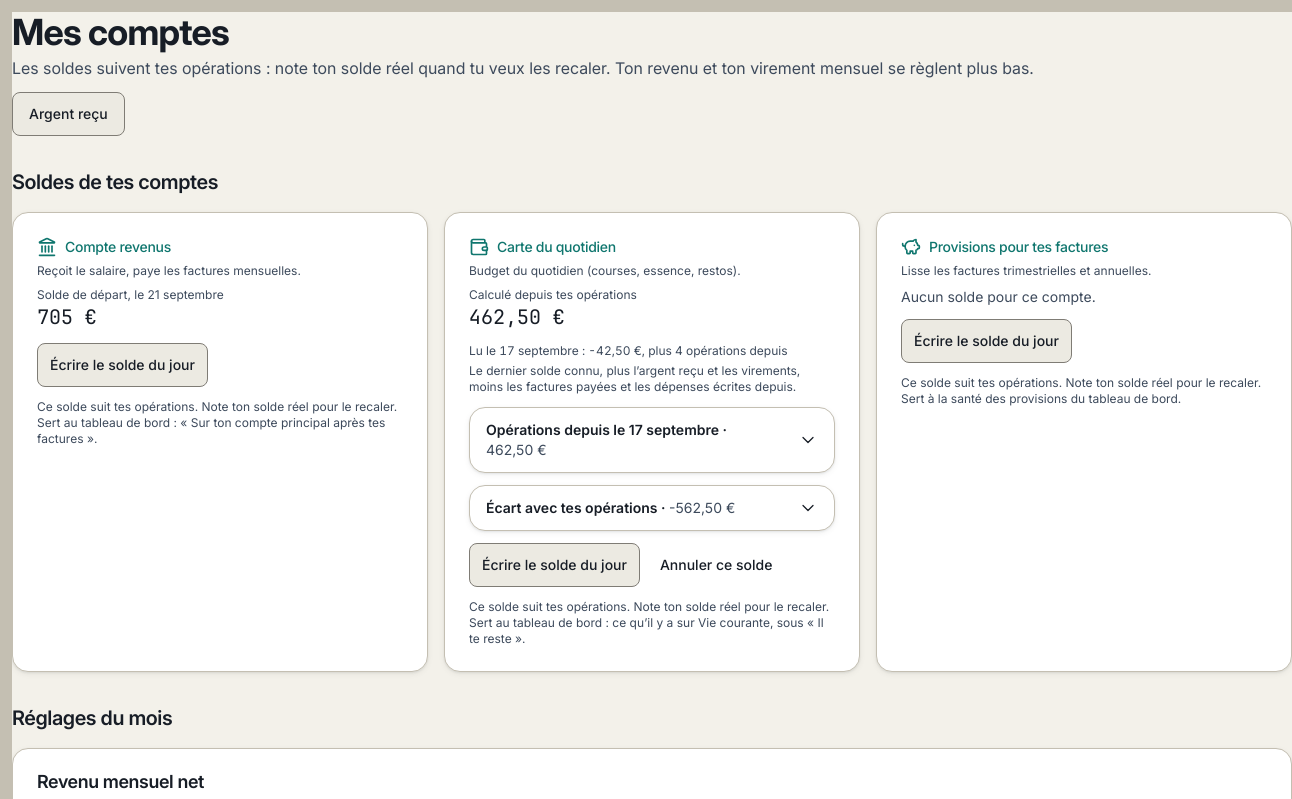
Test: AccountsClient — un solde lu, daté, et nommé pour ce qu’il est › ouvre « Attendu » sur ses lignes, dont la somme est l’attendu (règle 10)
Click the button "Écart avec tes opérations · -562,50 €" at point(652, 508), box top-left (470, 486), bottom-right (834, 530)
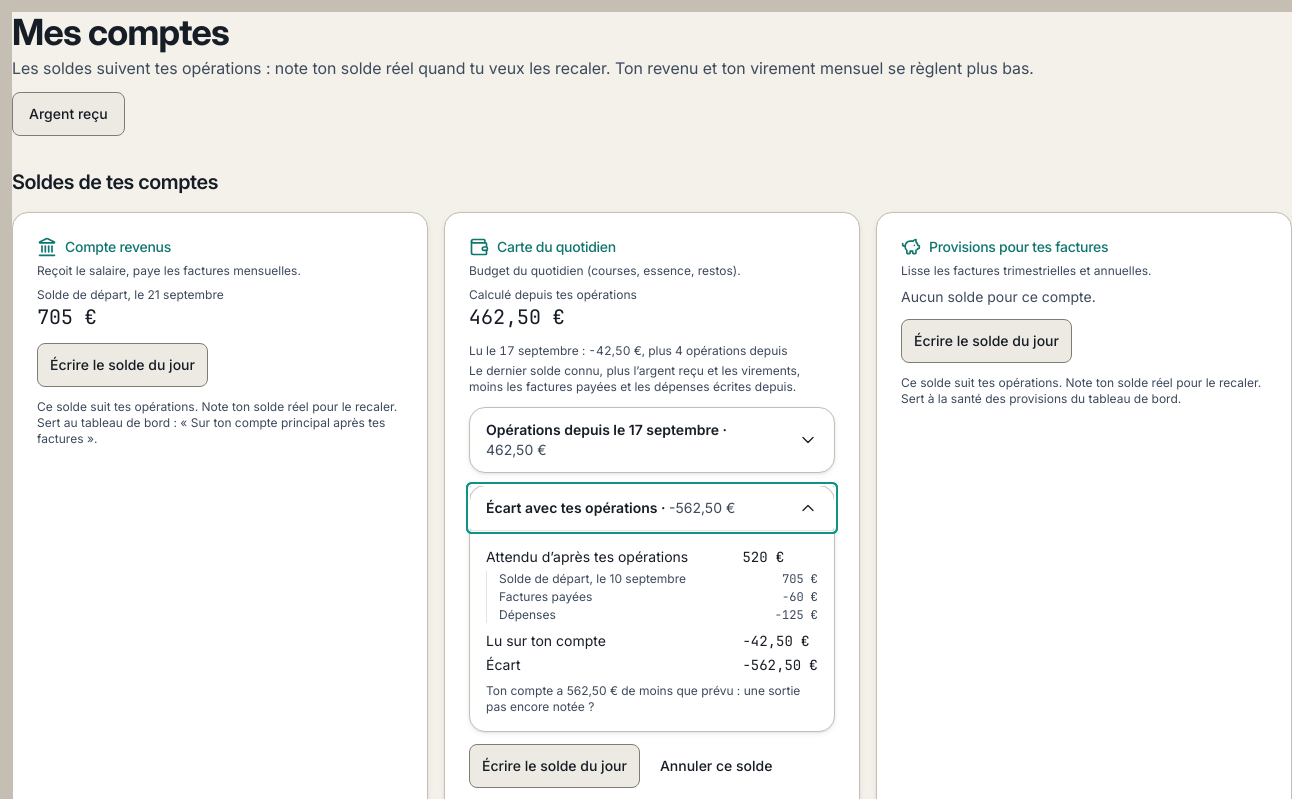
Expected: the list item "Solde de départ, le 10 septembre 705 €" is shown, top-left (499, 571), bottom-right (818, 587)
Expected: the list item "Factures payées -60 €" is shown, top-left (499, 589), bottom-right (818, 605)
Expected: the list item "Dépenses -125 €" is shown, top-left (499, 607), bottom-right (818, 623)
